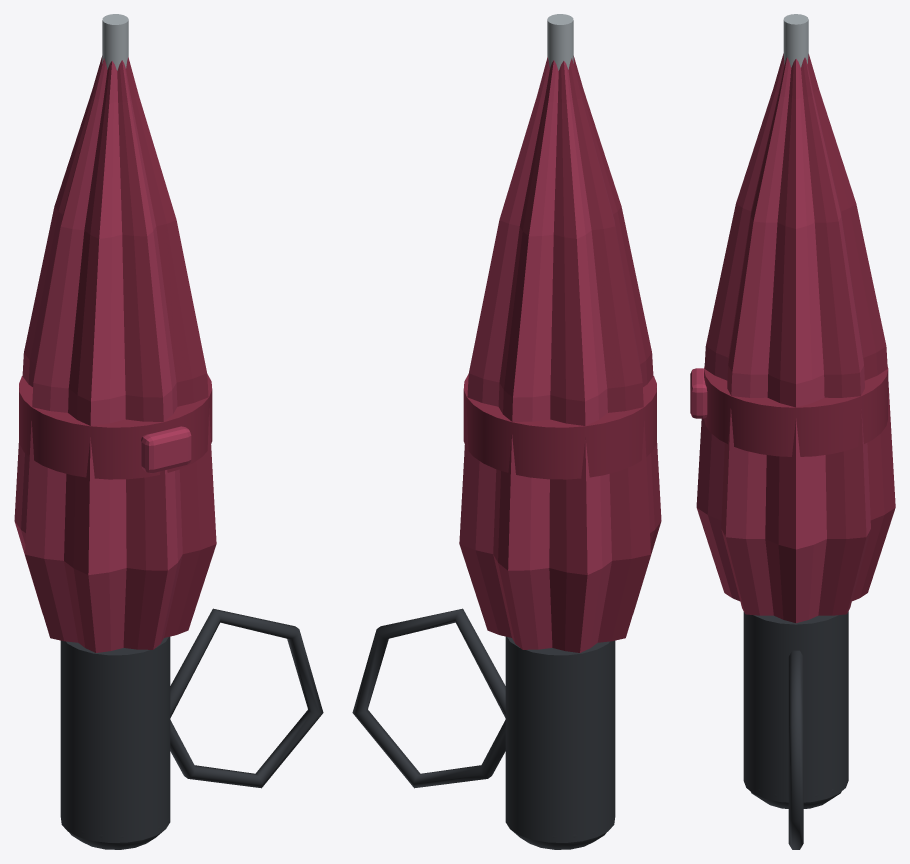
Rendered from umbrella_folded_compact.glb.
3 renders of one model, left to right at view 1: azimuth 30°, elevation 25°; view 2: azimuth 150°, elevation 25°; view 3: azimuth 270°, elevation 25°, orthographic. The views are drawn at different scales.
Parts seen in each view (by area): view 1: CompactUmbrella_Pleated_Folded_Canopy, CompactUmbrella_Compact_Handle, CompactUmbrella_Closure_Band, CompactUmbrella_Wrist_Loop, CompactUmbrella_Band_Clasp, CompactUmbrella_Ferrule; view 2: CompactUmbrella_Pleated_Folded_Canopy, CompactUmbrella_Compact_Handle, CompactUmbrella_Closure_Band, CompactUmbrella_Wrist_Loop, CompactUmbrella_Ferrule; view 3: CompactUmbrella_Pleated_Folded_Canopy, CompactUmbrella_Compact_Handle, CompactUmbrella_Closure_Band, CompactUmbrella_Wrist_Loop, CompactUmbrella_Ferrule, CompactUmbrella_Band_Clasp, CompactUmbrella_Handle_Base.
Part boxes in pixels (<box>): CompactUmbrella_Pleated_Folded_Canopy: <box>14,56,216,652</box>; CompactUmbrella_Compact_Handle: <box>60,636,170,842</box>; CompactUmbrella_Closure_Band: <box>19,374,212,479</box>; CompactUmbrella_Wrist_Loop: <box>170,608,323,788</box>; CompactUmbrella_Band_Clasp: <box>141,426,191,472</box>; CompactUmbrella_Ferrule: <box>102,14,128,68</box>; CompactUmbrella_Pleated_Folded_Canopy: <box>459,56,661,652</box>; CompactUmbrella_Compact_Handle: <box>505,636,615,842</box>; CompactUmbrella_Closure_Band: <box>463,374,656,479</box>; CompactUmbrella_Wrist_Loop: <box>352,608,505,788</box>; CompactUmbrella_Ferrule: <box>547,14,573,68</box>; CompactUmbrella_Pleated_Folded_Canopy: <box>696,53,895,623</box>; CompactUmbrella_Compact_Handle: <box>743,611,848,802</box>; CompactUmbrella_Closure_Band: <box>704,366,888,456</box>; CompactUmbrella_Wrist_Loop: <box>788,650,803,849</box>; CompactUmbrella_Ferrule: <box>783,14,808,65</box>; CompactUmbrella_Band_Clasp: <box>690,368,707,418</box>; CompactUmbrella_Handle_Base: <box>747,782,844,808</box>.
Bounding box in the file's own units: 0.1555 × 0.412 × 0.098.
